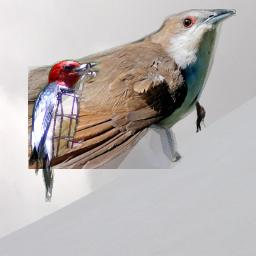Cuckoo: (28, 9, 236, 169)
Woodpecker: (29, 59, 103, 202)
